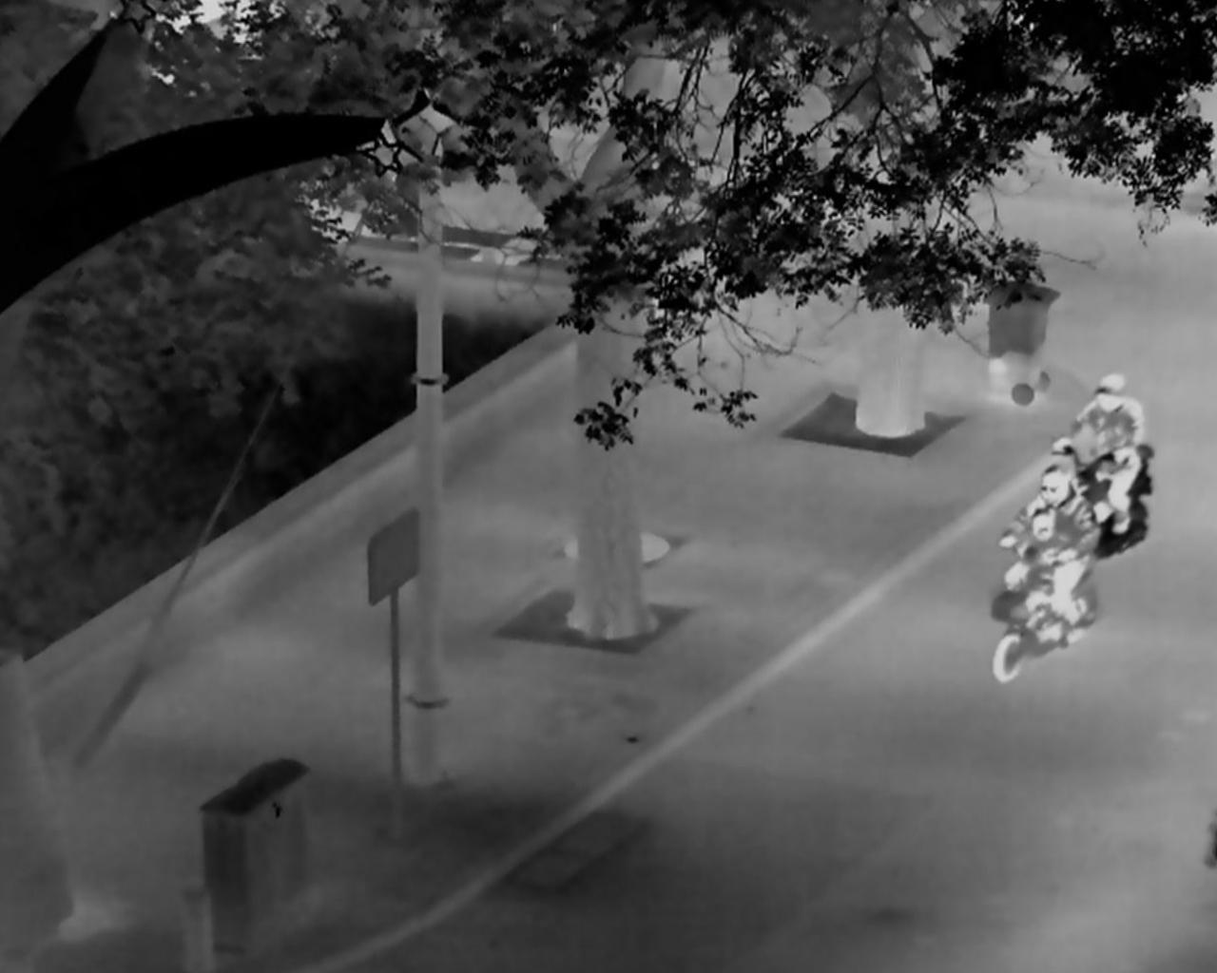person: (997, 463, 1096, 628), (1051, 372, 1145, 534), (1000, 507, 1072, 618)
